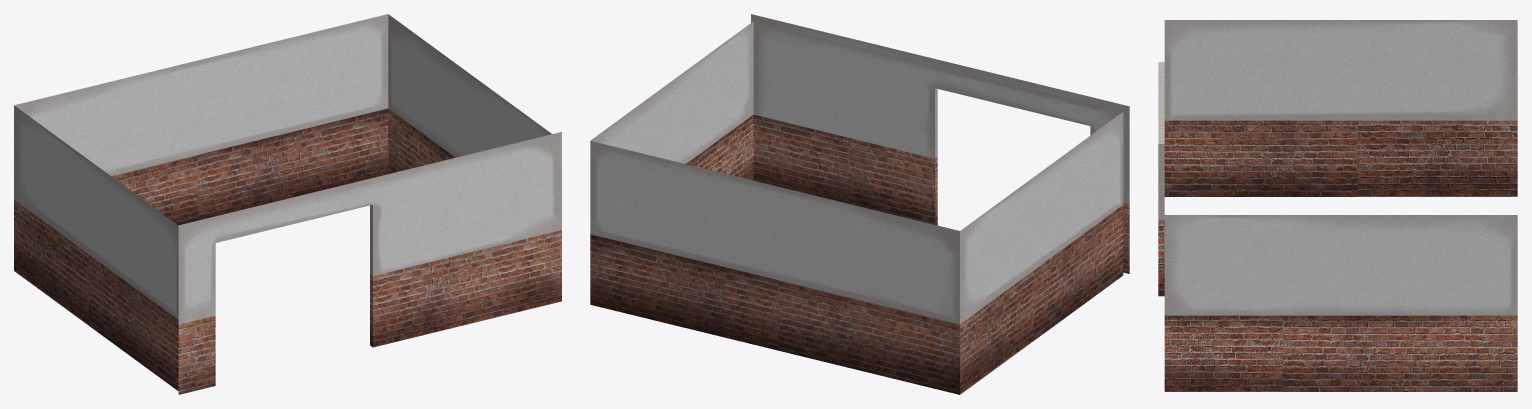
File: wall.FBX
3 views of the same model, side by side, from view 1: azimuth 30°, elevation 25°; view 2: azimuth 150°, elevation 25°; view 3: azimuth 270°, elevation 25° (orthographic). The views are drawn at different scales.
Visible parts, largest first — view 1: Wall; view 2: Wall; view 3: Wall.
Part boxes in pixels (x1,y1,x2,y2): Wall: (14, 14, 561, 394); Wall: (590, 14, 1129, 394); Wall: (1158, 20, 1517, 391).
Bounding box in the file's own units: 849 × 359 × 645.
Materials: 1 (1 with a texture image).
